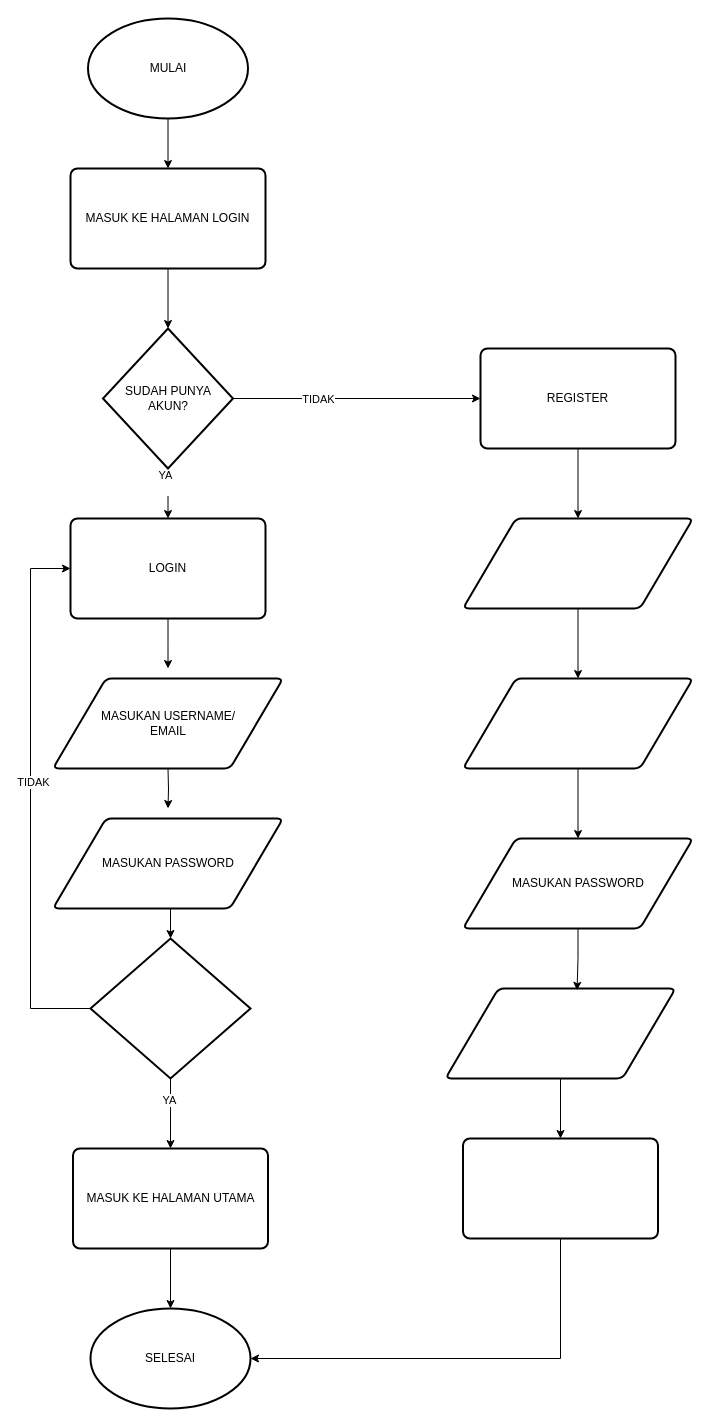
The diagram is 711 pixels wide and 1426 high, and some of its shapes have lost their labels. Each missing label, with the centre of its shape:
"DAFTARKAN AKUN" goes at point 560,1188.
"EMAIL/USERNAME DAN PASSWORD VALID" goes at point 170,1008.
"KONFIRMASI PASSWORD" goes at point 560,1033.
"MASUKAN EMAIL" goes at point 578,723.
"MASUKAN USERNAME" goes at point 578,563.
